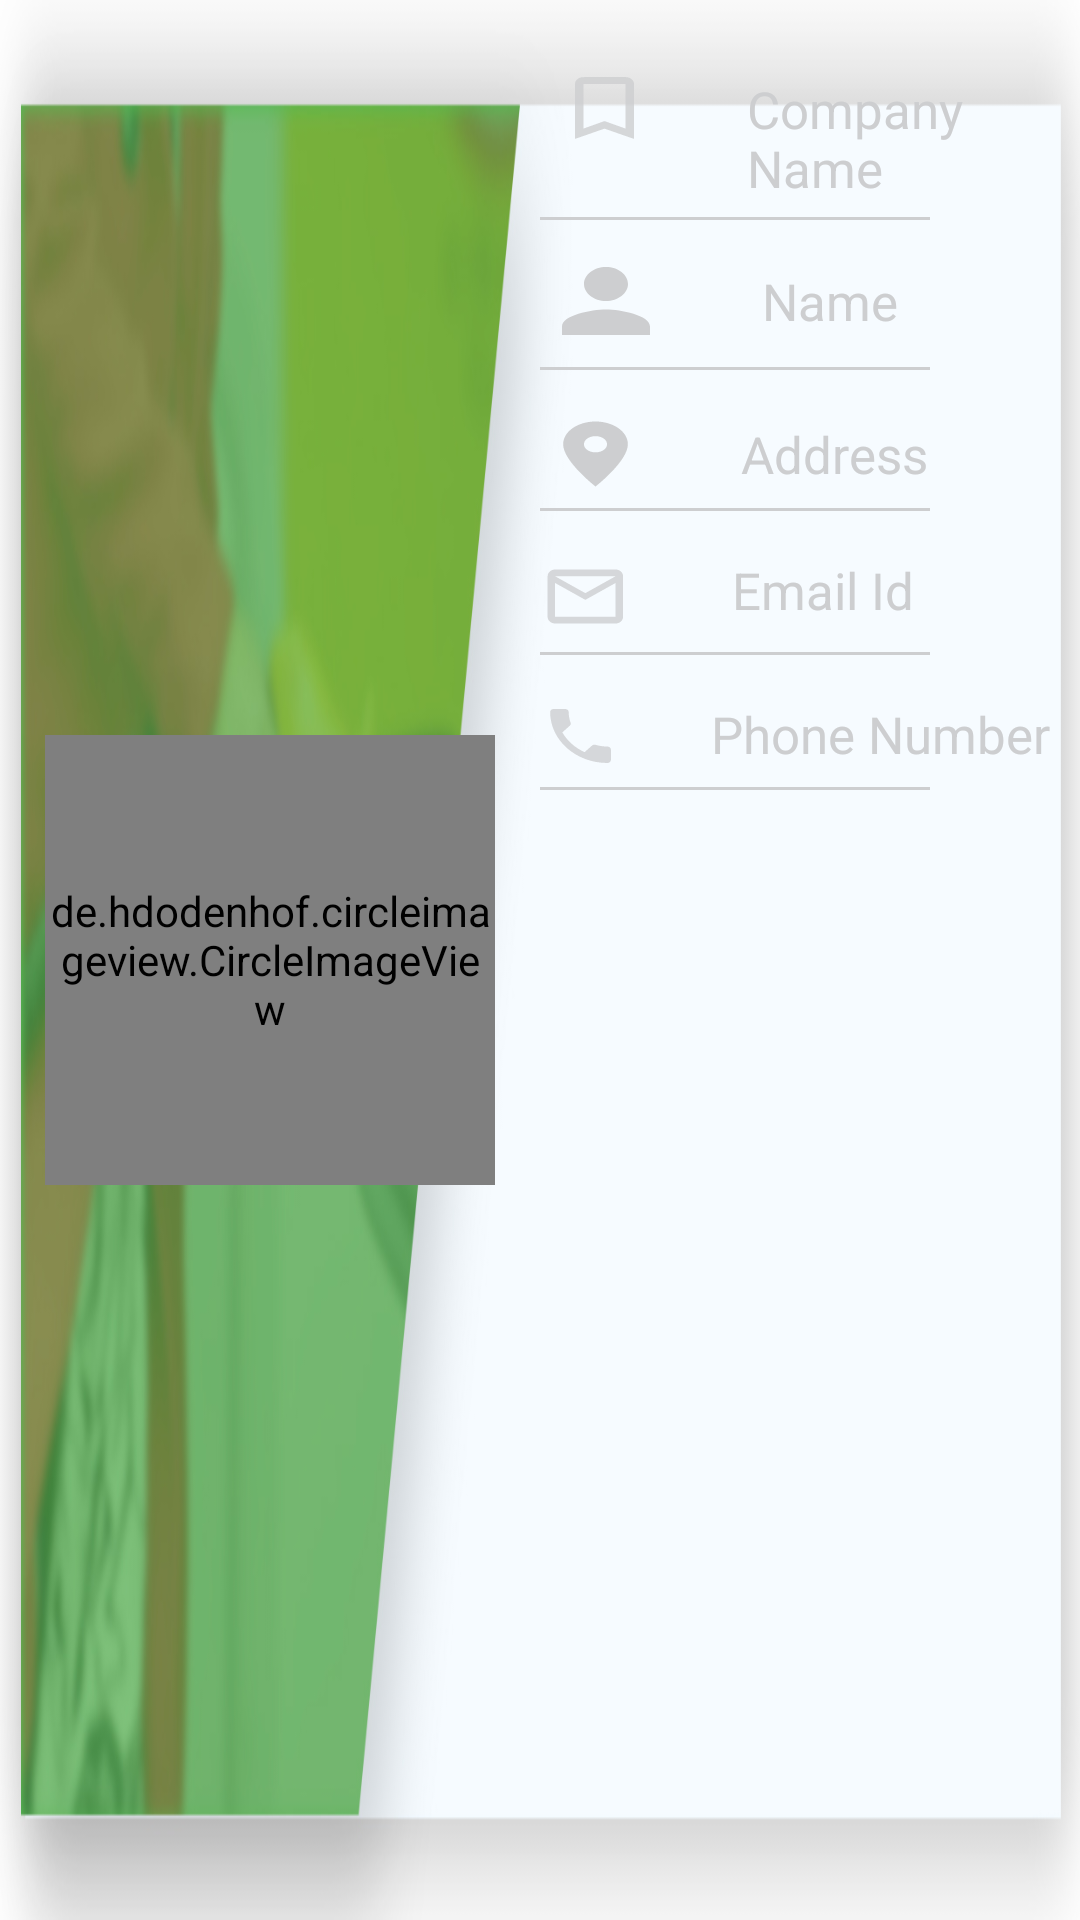

Icons on this 1080×1920 Android screen, each with the point to tap as (x=x, y=y):
call: (x=580, y=736)
user: (x=606, y=301)
